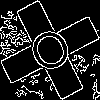O: (25, 25, 81, 84)
